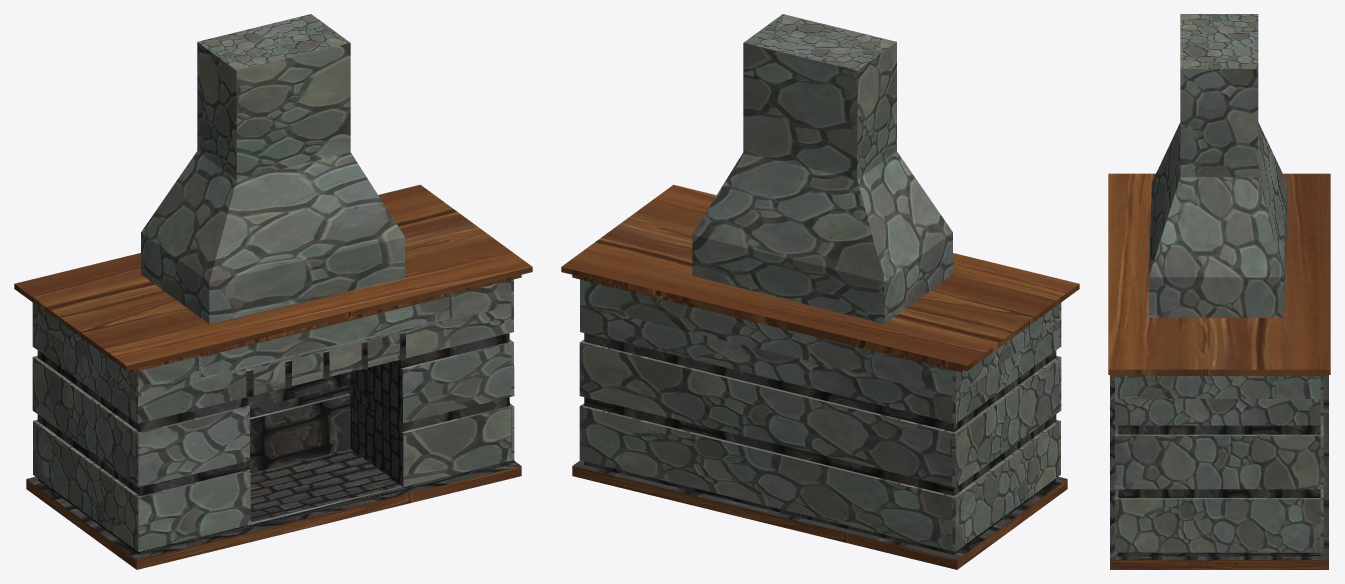
The model's file is fireplace.fbx.
3 renders of one model, left to right at view 1: azimuth 30°, elevation 25°; view 2: azimuth 150°, elevation 25°; view 3: azimuth 270°, elevation 25°, orthographic.
Parts seen in each view (by area): view 1: Plane, Plane.004, Plane.002, Plane.003, Plane.001, Plane.005; view 2: Plane, Plane.004, Plane.002, Plane.003, Plane.001, Plane.005; view 3: Plane, Plane.004, Plane.002, Plane.003, Plane.001, Plane.005.
Part boxes in pixels (left/top/right/bottom): Plane: left=26, top=279, right=520, bottom=559; Plane.004: left=141, top=14, right=404, bottom=324; Plane.002: left=14, top=184, right=532, bottom=372; Plane.003: left=37, top=333, right=509, bottom=495; Plane.001: left=26, top=466, right=521, bottom=569; Plane.005: left=38, top=461, right=509, bottom=554; Plane: left=573, top=279, right=1067, bottom=559; Plane.004: left=692, top=14, right=952, bottom=324; Plane.002: left=561, top=184, right=1079, bottom=372; Plane.003: left=584, top=333, right=1056, bottom=495; Plane.001: left=572, top=466, right=1067, bottom=569; Plane.005: left=584, top=461, right=1055, bottom=554; Plane: left=1110, top=375, right=1328, bottom=559; Plane.004: left=1148, top=14, right=1286, bottom=317; Plane.002: left=1108, top=173, right=1330, bottom=375; Plane.003: left=1118, top=425, right=1320, bottom=497; Plane.001: left=1110, top=560, right=1328, bottom=569; Plane.005: left=1118, top=552, right=1320, bottom=556.
Bounding box in the file's own units: 4207 × 4358 × 2014.
Materials: 3 (3 with a texture image).
